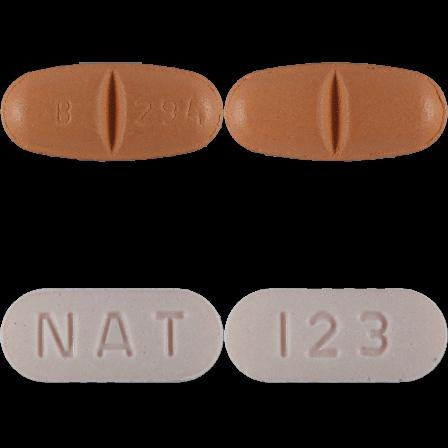51991-294: (0, 0, 224, 224)
